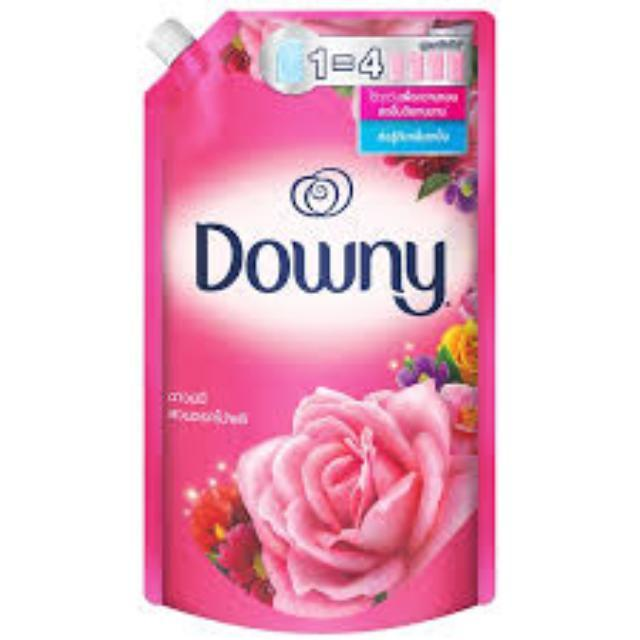Paquete de plastico: (145, 9, 495, 633)
